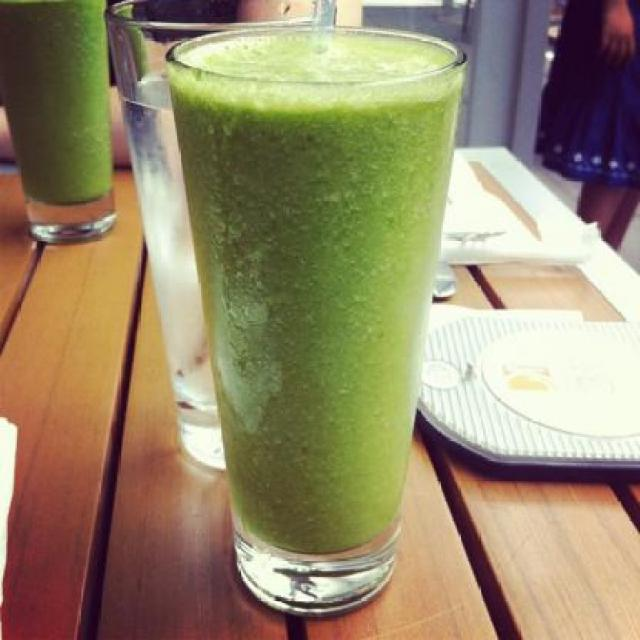Juice: (166, 27, 466, 556), (0, 0, 112, 201)
